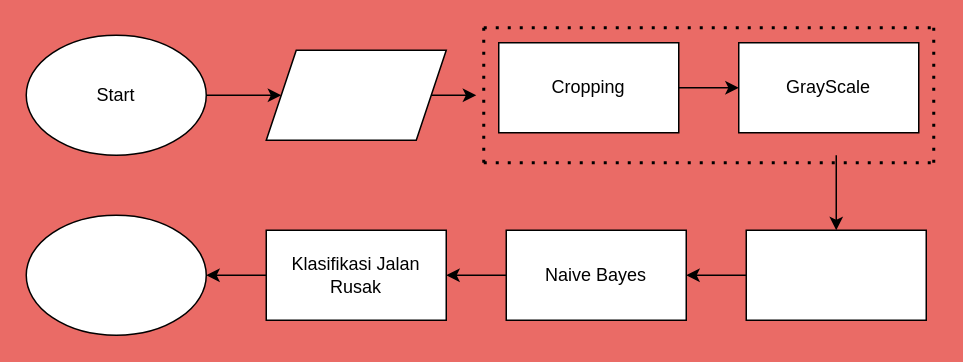
This 963x362 diagram has some shape labels left out. The shapes that lost their labels are listed below. From the top down, each one's centre as x and y in pixels, then its label:
pixel 355 94: Input Citra
pixel 115 274: Stop
pixel 835 274: Feature Extraction LBP
